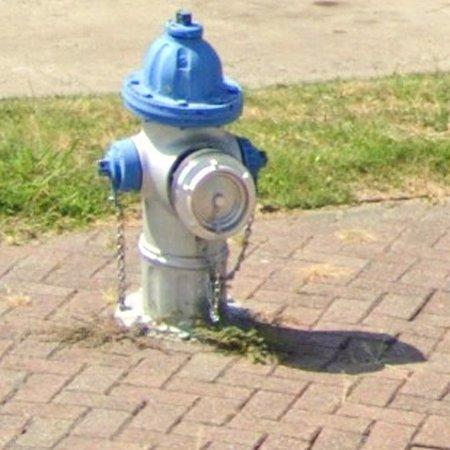a fire hydrant: (99, 10, 267, 327)
